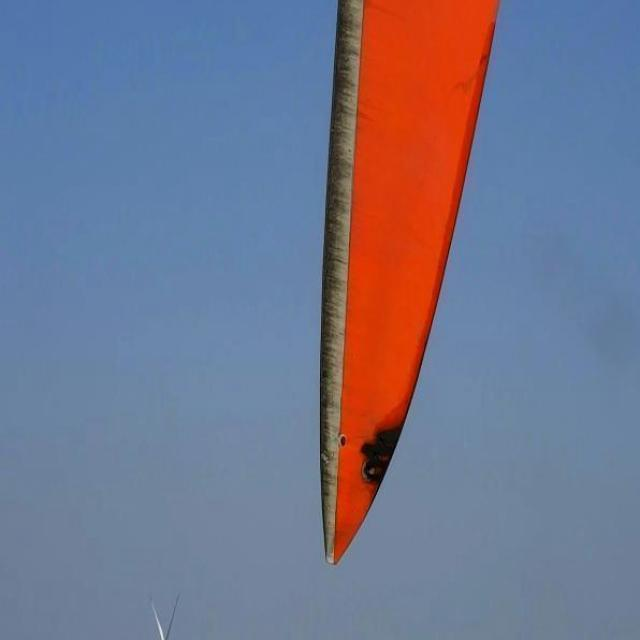Dirt: (320, 0, 366, 568)
oil_leakage: (357, 423, 405, 497)
